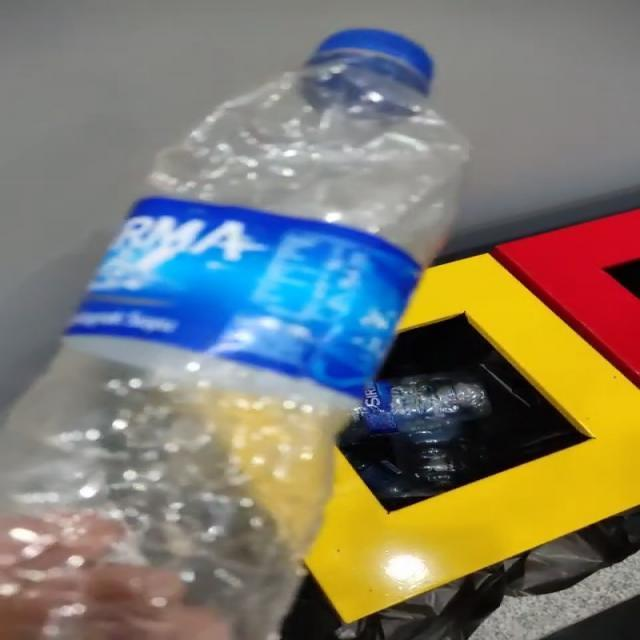Plastic: (1, 28, 469, 640)
